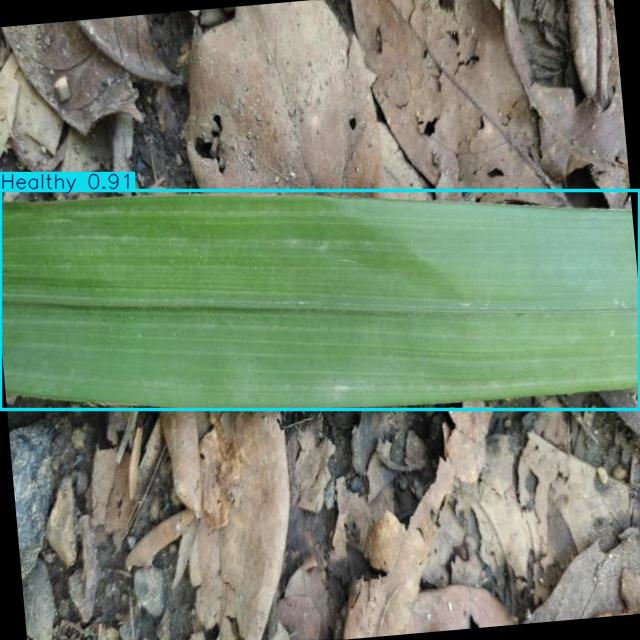Healthy: (0, 191, 639, 410)
